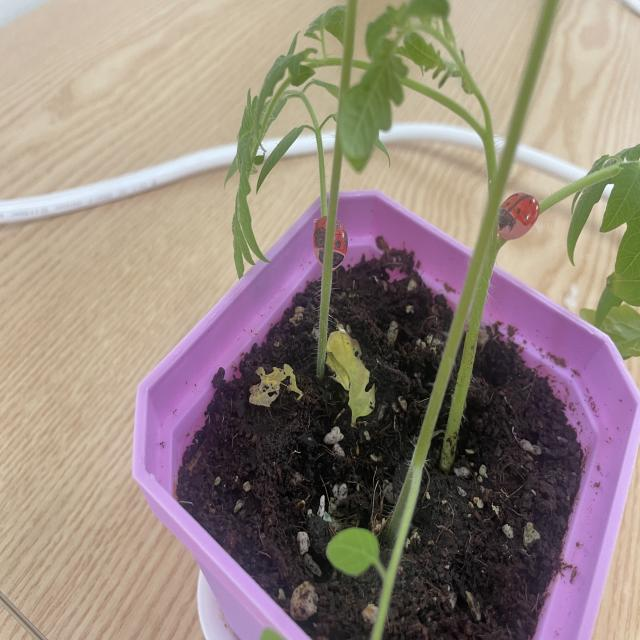bug: (484, 189, 545, 249), (309, 208, 353, 271)
